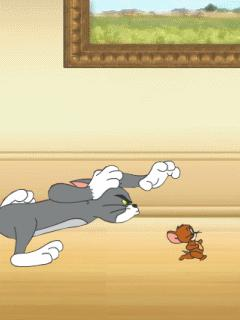jerry: (166, 223, 210, 262)
